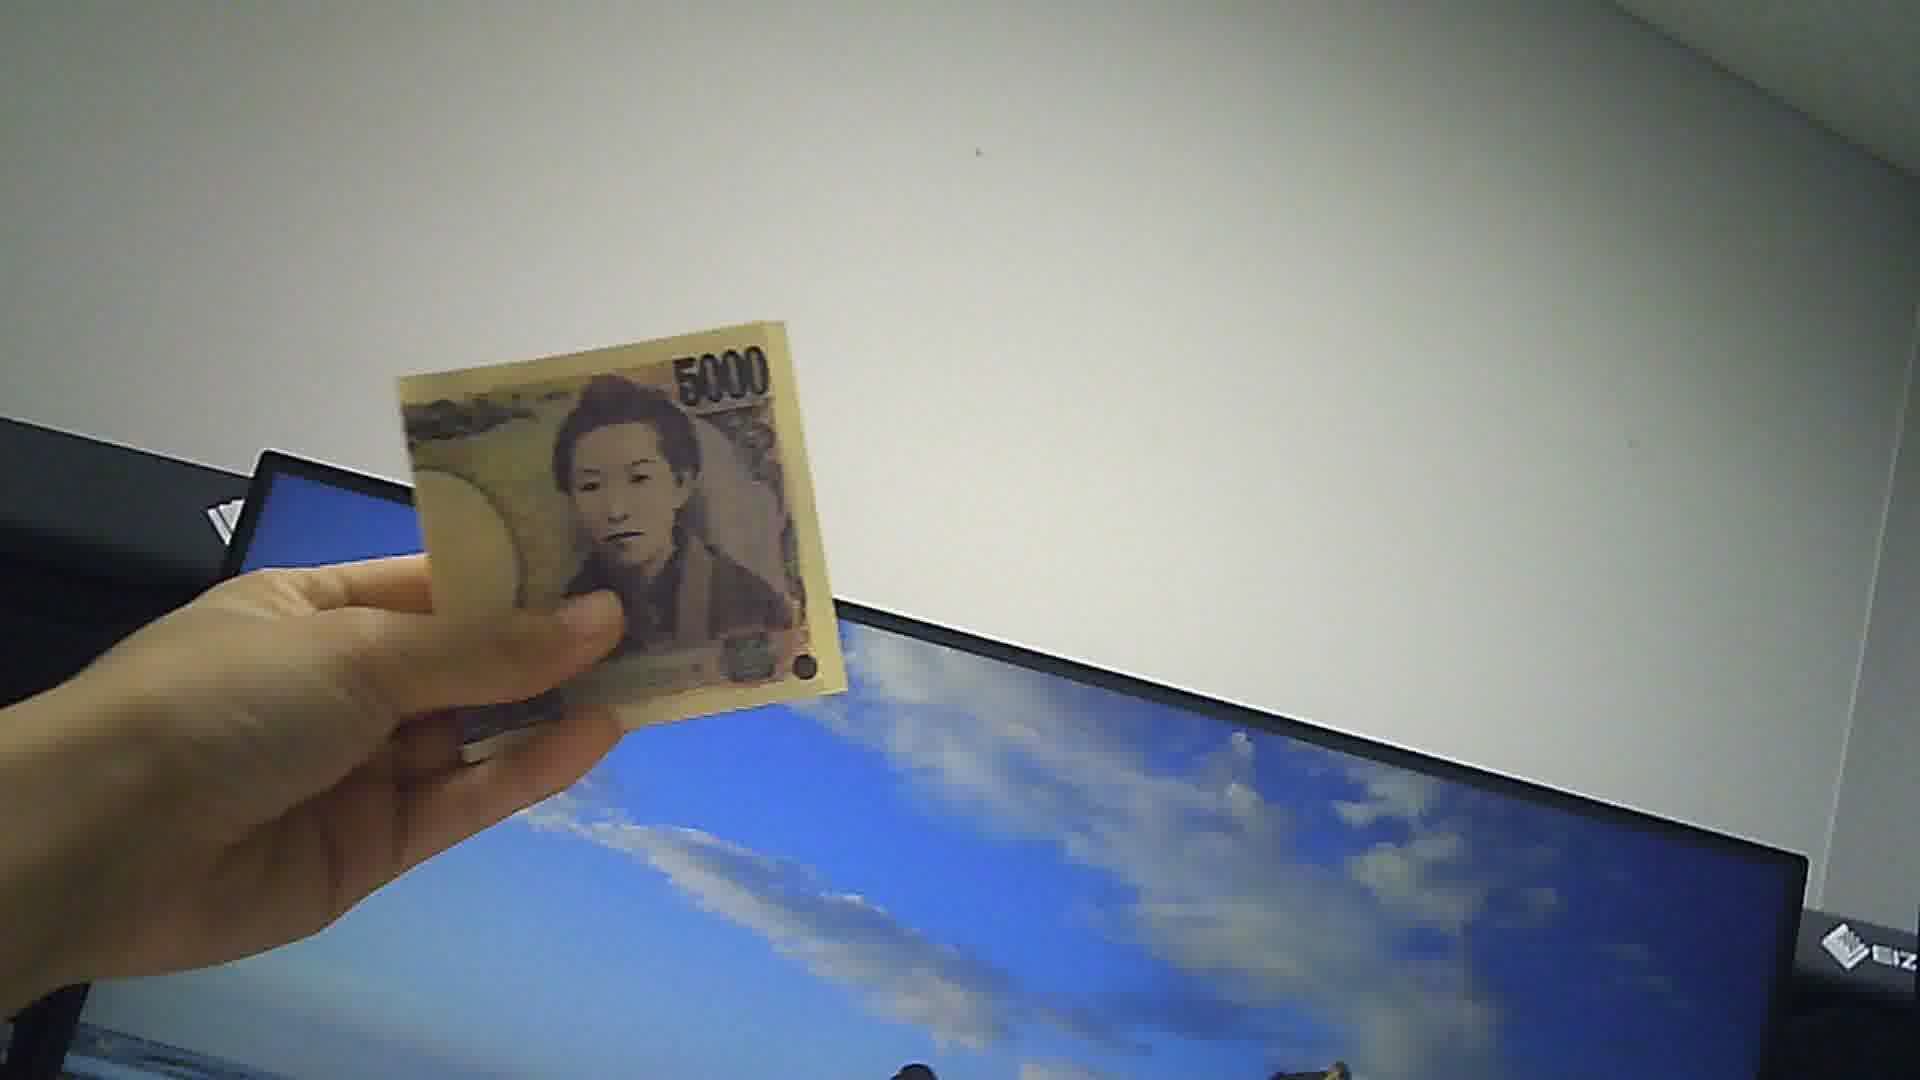5,000 Yen: (382, 311, 852, 756)
